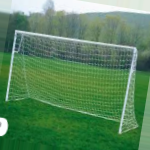goals: (4, 26, 139, 139)
